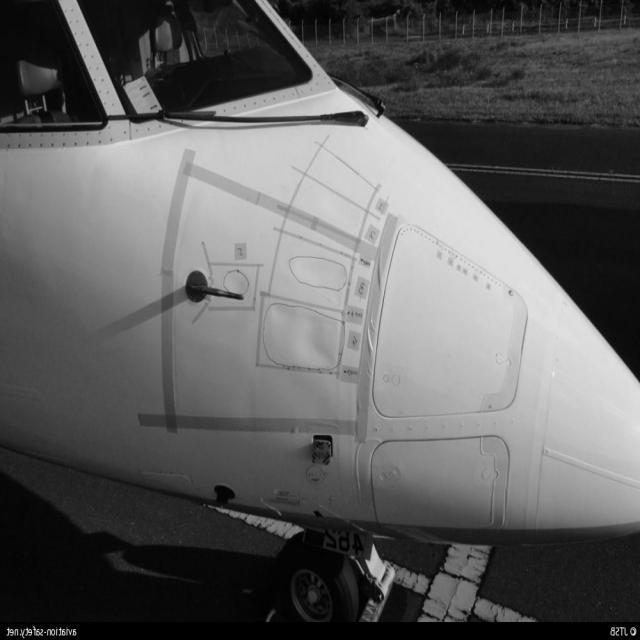dent: (266, 303, 340, 368), (293, 262, 346, 286), (222, 270, 250, 294)
